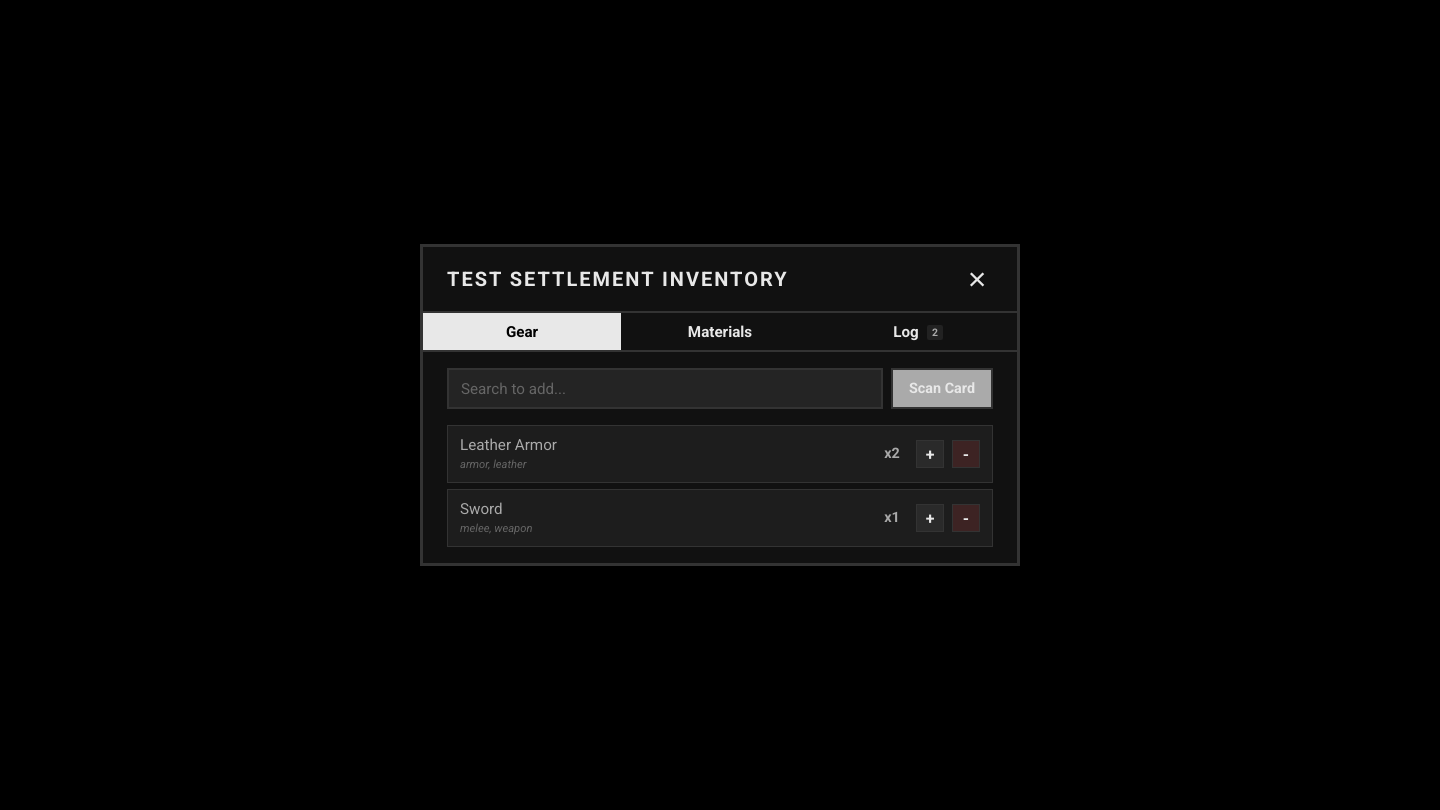
it: InventoryModal › Settlement Log tab › shows log entries when Log tab is clicked
This screenshot has width=1440, height=810.
Step 1. Click the button "Log 2" → (918, 332), box x1=819 y1=313 x2=1017 y2=350
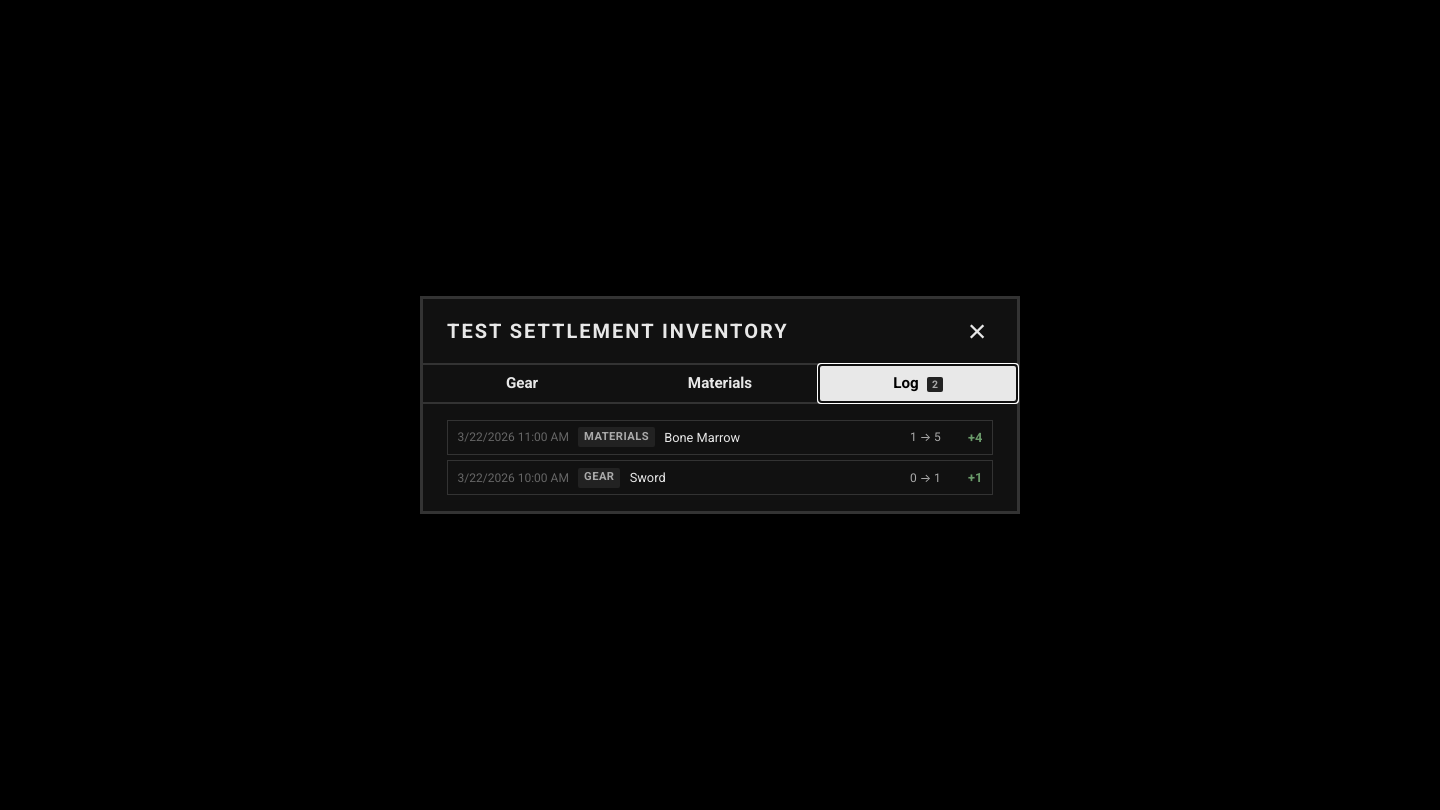
Expected: the text "Sword" is shown, x1=630 y1=470 x2=666 y2=485
Now the text "Bone Marrow" is shown, box x1=664 y1=430 x2=740 y2=445
